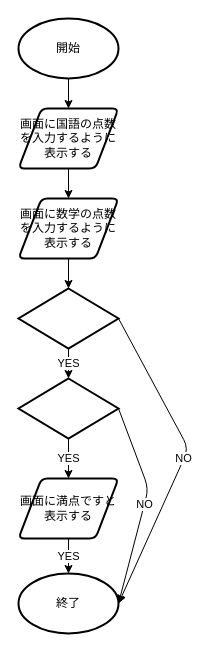
This 214x651 diagram has some shape labels left out. Here are the shapes that lost their labels. From the top down, the box of each, then its label:
(17, 287, 119, 349): 入力された国語の点数が１００
(17, 377, 119, 439): 入力された数学の点数が１００
